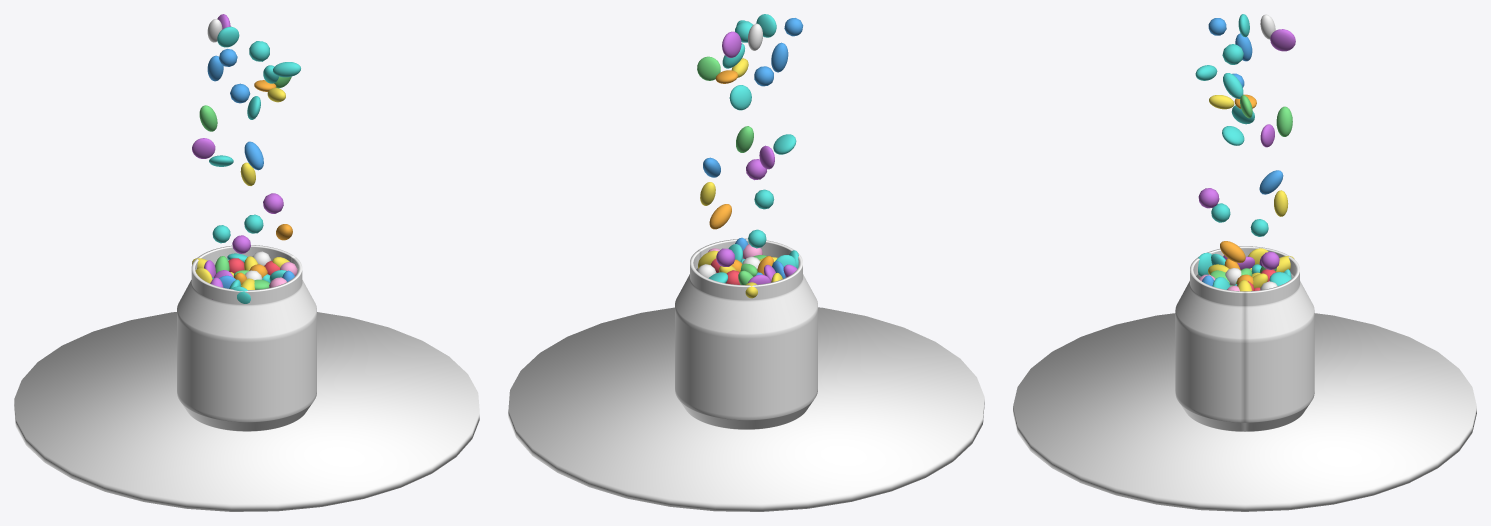
Rendered from candy_jar.glb.
3 renders of one model, left to right at view 1: azimuth 30°, elevation 25°; view 2: azimuth 150°, elevation 25°; view 3: azimuth 270°, elevation 25°, orthographic. The views are drawn at different scales.
Visible parts, largest first — view 1: Table, Jar; view 2: Table, Jar; view 3: Table, Jar.
Part boxes in pixels (bbox=[...]): Table: bbox=[14, 312, 479, 511]; Jar: bbox=[177, 245, 316, 431]; Table: bbox=[508, 307, 984, 511]; Jar: bbox=[675, 238, 817, 429]; Table: bbox=[1013, 313, 1476, 511]; Jar: bbox=[1175, 246, 1314, 431].
Size of what is drawn, in the model's own units: 8 by 7.47 by 8.
